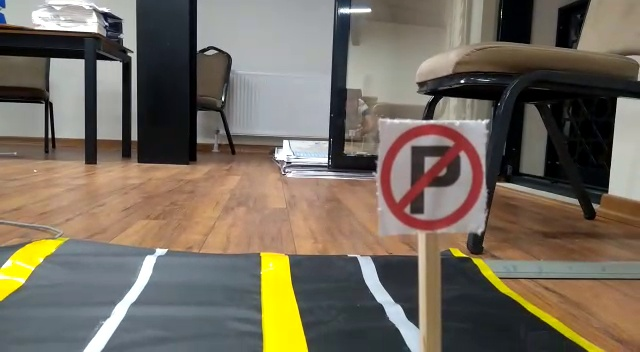park_yapilmaz: (377, 122, 484, 230)
